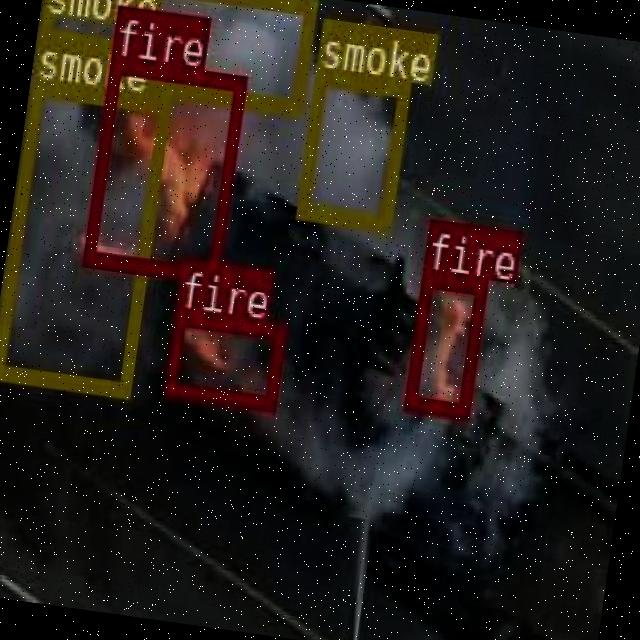fire: (81, 56, 246, 282), (160, 307, 284, 410), (402, 270, 484, 416)
smoke: (0, 78, 170, 396), (32, 0, 315, 113), (295, 70, 410, 228)
